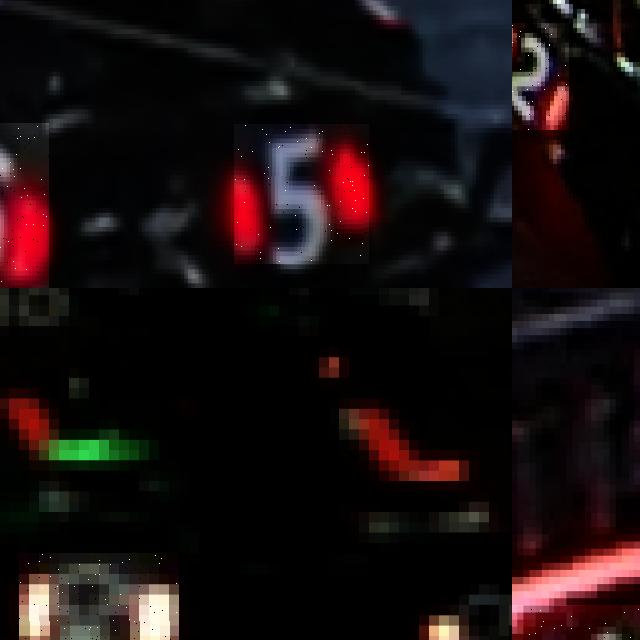R2: (512, 23, 569, 129)
R5: (234, 124, 369, 264), (0, 123, 49, 288)
Rs: (19, 553, 179, 640)
